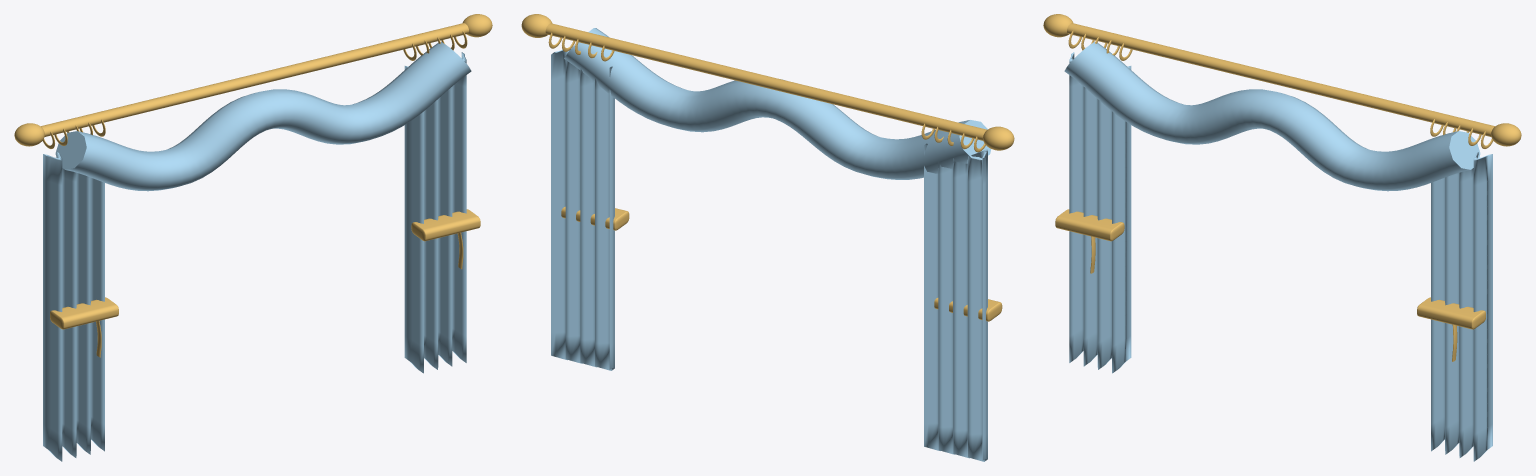
File: curtainBlueDrape.glb
The picture shows the model from 3 angles, left to right: view 1: azimuth 30°, elevation 25°; view 2: azimuth 150°, elevation 25°; view 3: azimuth 330°, elevation 25°; orthographic projection. The views are drawn at different scales.
Parts seen in each view (by area): view 1: Soft draped valance, Folded curtain fabric, Folded curtain fabric.001, Curtain rod, Curtain tieback.001, Curtain tieback, Rod finial, Rod finial.001; view 2: Folded curtain fabric, Folded curtain fabric.001, Soft draped valance, Curtain rod, Rod finial, Rod finial.001; view 3: Soft draped valance, Folded curtain fabric.001, Folded curtain fabric, Curtain rod, Curtain tieback, Curtain tieback.001, Rod finial.001, Rod finial.
Boxes of the visible parts, <box> form: Soft draped valance: <box>55,42,471,191</box>; Folded curtain fabric: <box>43,152,104,461</box>; Folded curtain fabric.001: <box>404,52,466,373</box>; Curtain rod: <box>41,23,468,136</box>; Curtain tieback.001: <box>411,209,480,241</box>; Curtain tieback: <box>50,297,118,329</box>; Rod finial: <box>14,123,44,146</box>; Rod finial.001: <box>462,14,492,37</box>; Folded curtain fabric: <box>924,143,987,461</box>; Folded curtain fabric.001: <box>551,50,614,370</box>; Soft draped valance: <box>564,28,991,179</box>; Curtain rod: <box>545,23,987,140</box>; Rod finial: <box>983,126,1014,150</box>; Rod finial.001: <box>521,14,552,37</box>; Soft draped valance: <box>1064,42,1480,191</box>; Folded curtain fabric.001: <box>1431,152,1492,461</box>; Folded curtain fabric: <box>1069,52,1131,373</box>; Curtain rod: <box>1067,23,1494,136</box>; Curtain tieback: <box>1055,209,1124,241</box>; Curtain tieback.001: <box>1417,297,1485,329</box>; Rod finial.001: <box>1491,123,1521,146</box>; Rod finial: <box>1043,14,1073,37</box>.
Bounding box in the file's own units: 2.1 × 1.41 × 0.235.
